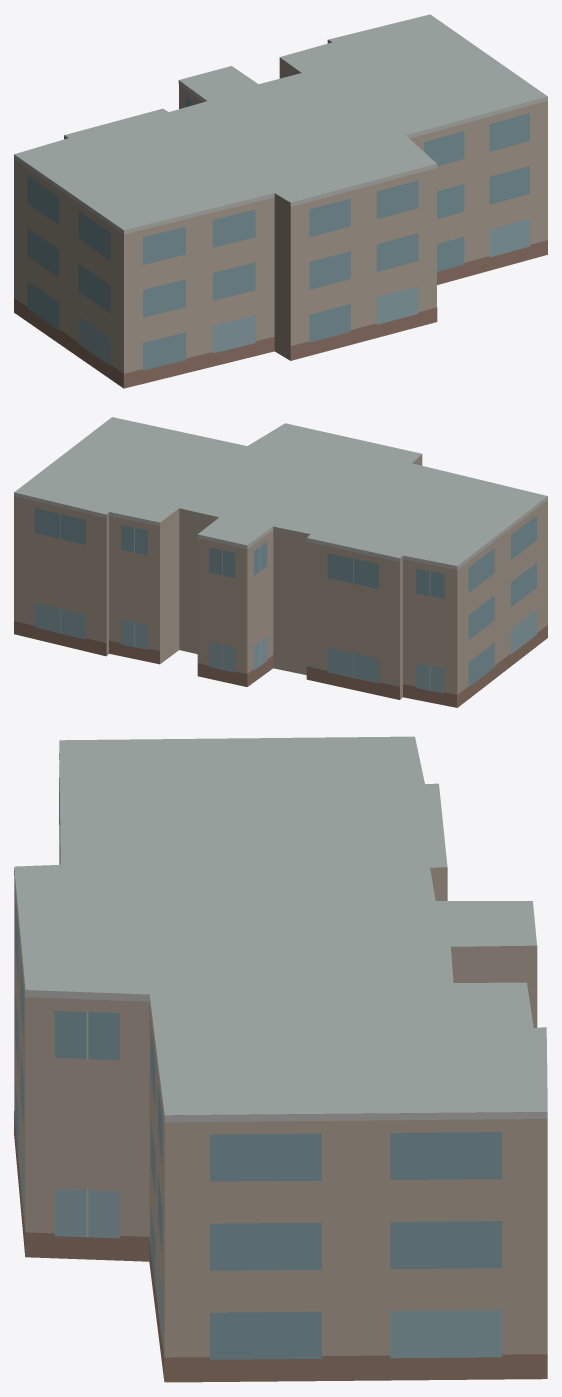
File: survey-upis-32674126.glb
The picture shows the model from 3 angles, top to bottom: view 1: azimuth 30°, elevation 25°; view 2: azimuth 150°, elevation 25°; view 3: azimuth 270°, elevation 25°; orthographic projection. The views are drawn at different scales.
Parts seen in each view (by area): view 1: survey-upis-32674126.tmp; view 2: survey-upis-32674126.tmp; view 3: survey-upis-32674126.tmp.
Boxes of the visible parts, <box> form: survey-upis-32674126.tmp: <box>14,14,547,388</box>; survey-upis-32674126.tmp: <box>14,417,547,707</box>; survey-upis-32674126.tmp: <box>14,736,547,1382</box>.
Size of the model in its own units: 27.82 by 9.15 by 16.57.
